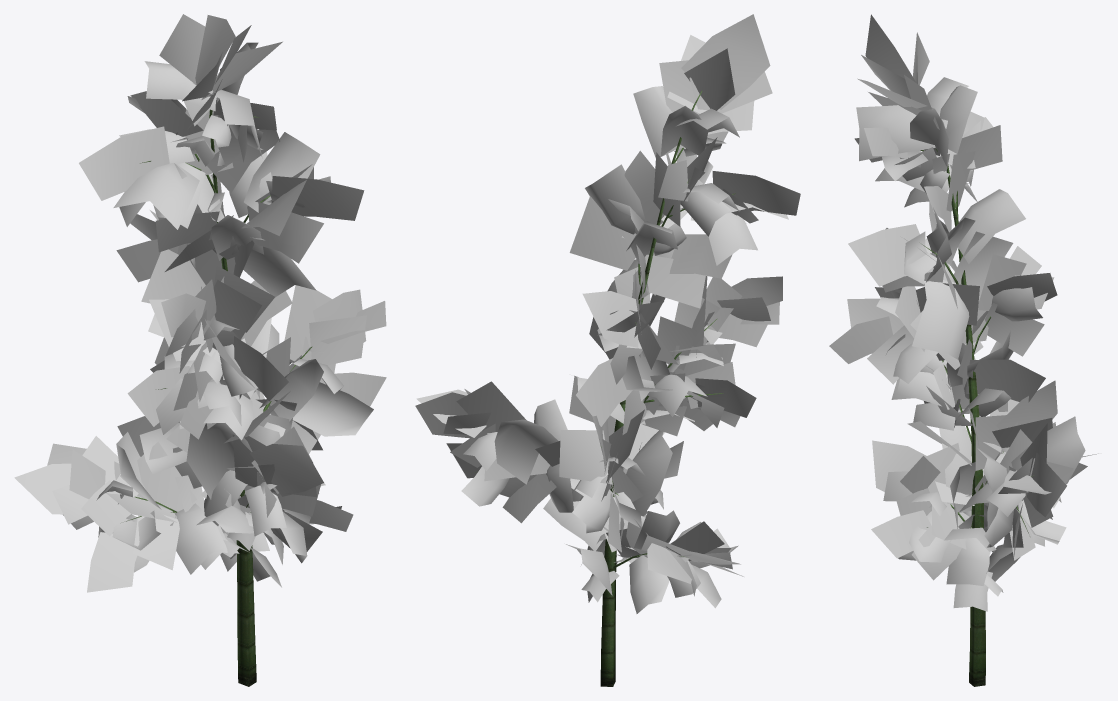
The model's file is JiaYeSi__ZhuZi_2.FBX.
3 views of the same model, side by side, from view 1: azimuth 30°, elevation 25°; view 2: azimuth 150°, elevation 25°; view 3: azimuth 270°, elevation 25° (orthographic). The views are drawn at different scales.
Parts seen in each view (by area): view 1: JiaYeSi__ZhuZi_2b, JiaYeSi__ZhuZi_2a; view 2: JiaYeSi__ZhuZi_2b, JiaYeSi__ZhuZi_2a; view 3: JiaYeSi__ZhuZi_2b, JiaYeSi__ZhuZi_2a.
Part boxes in pixels (x1=…): JiaYeSi__ZhuZi_2b: x1=14, y1=14, x2=386, y2=592; JiaYeSi__ZhuZi_2a: x1=126, y1=109, x2=312, y2=686; JiaYeSi__ZhuZi_2b: x1=415, y1=14, x2=800, y2=613; JiaYeSi__ZhuZi_2a: x1=475, y1=91, x2=735, y2=686; JiaYeSi__ZhuZi_2b: x1=829, y1=14, x2=1098, y2=611; JiaYeSi__ZhuZi_2a: x1=920, y1=148, x2=1033, y2=686.
Size of the model in its own units: 473 by 899 by 357.
